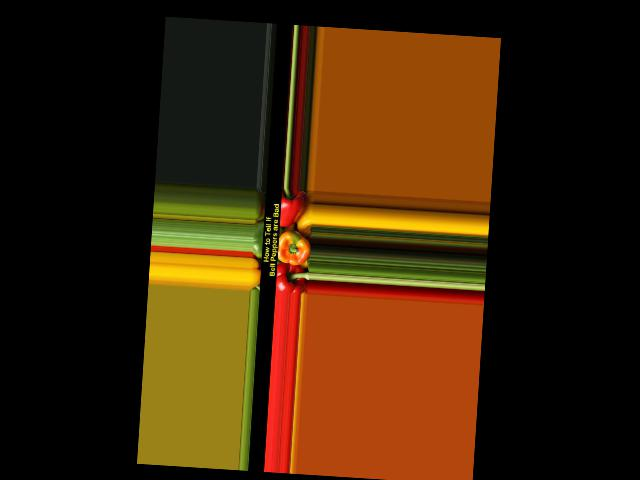bell_pepper: (273, 260, 309, 293)
